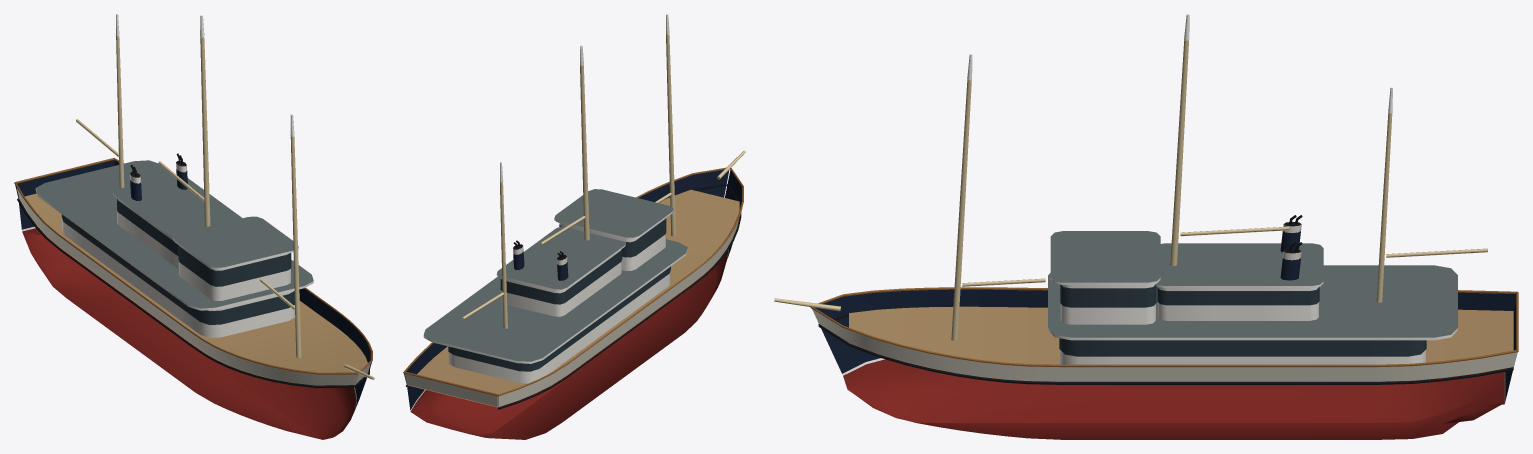
File: ship_scow_far.glb
3 views of the same model, side by side, from view 1: azimuth 30°, elevation 25°; view 2: azimuth 150°, elevation 25°; view 3: azimuth 270°, elevation 25° (orthographic). The views are drawn at different scales.
Visible parts, largest first — view 1: Body; view 2: Body; view 3: Body.
Boxes of the visible parts, x1,y1,x2,y2 form: Body: (14, 14, 374, 439); Body: (403, 14, 745, 439); Body: (774, 14, 1518, 439).
Bounding box in the file's own units: 10.04 × 24.6 × 40.65.
